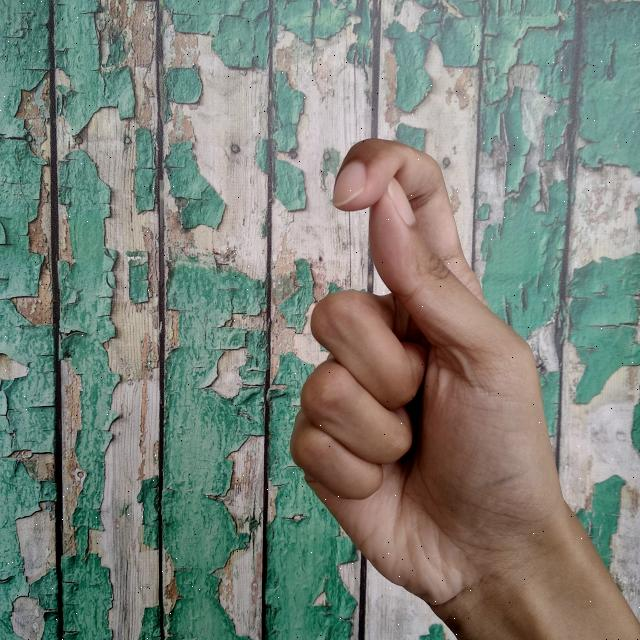T: (288, 134, 637, 640)
